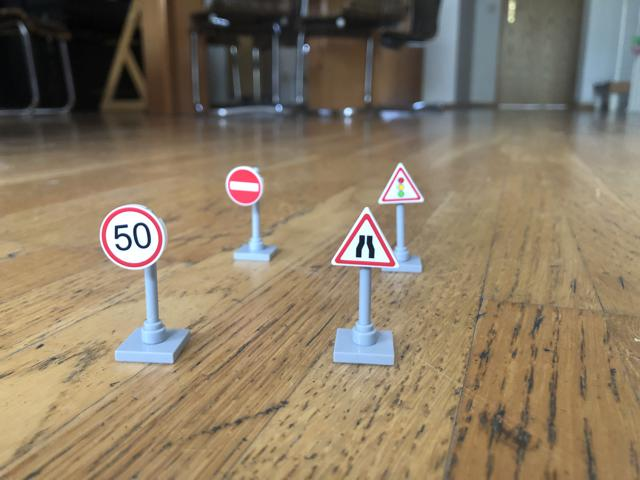lichtzeichenanlage: (373, 160, 426, 206)
tempolimit 50: (98, 206, 169, 269)
verbot der einfahrt: (223, 165, 266, 209)
verengte fahrbahn: (329, 207, 398, 269)
